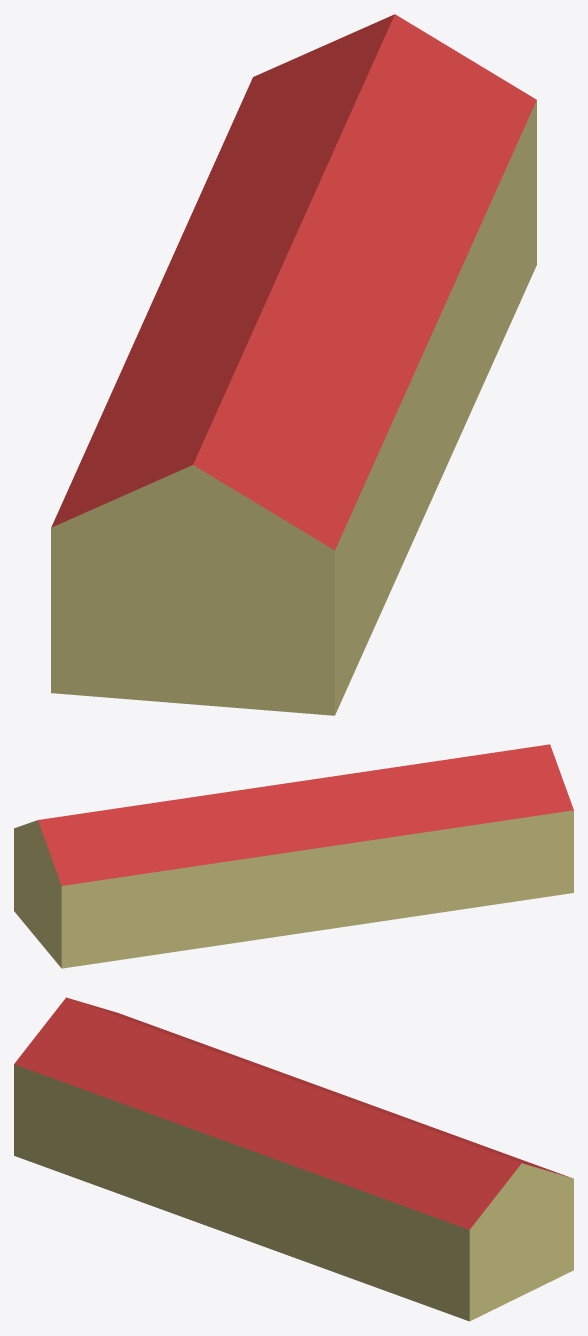
The picture shows the model from 3 angles, top to bottom: view 1: azimuth 30°, elevation 25°; view 2: azimuth 150°, elevation 25°; view 3: azimuth 270°, elevation 25°; orthographic projection. The views are drawn at different scales.
Bounding box in the file's own units: 21.54 × 23.49 × 6.14.
